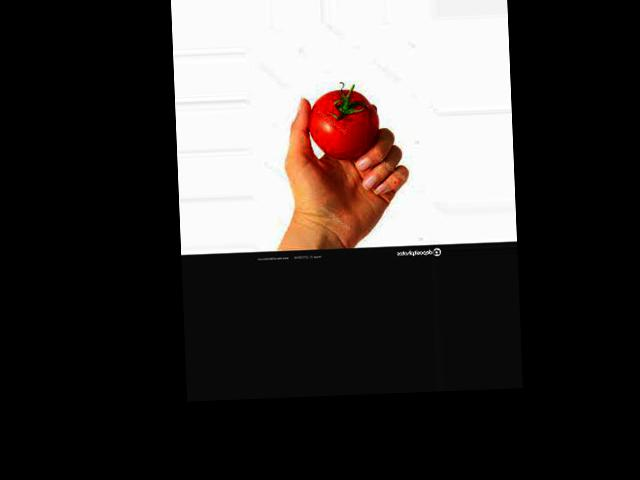tomato: (308, 88, 378, 162)
